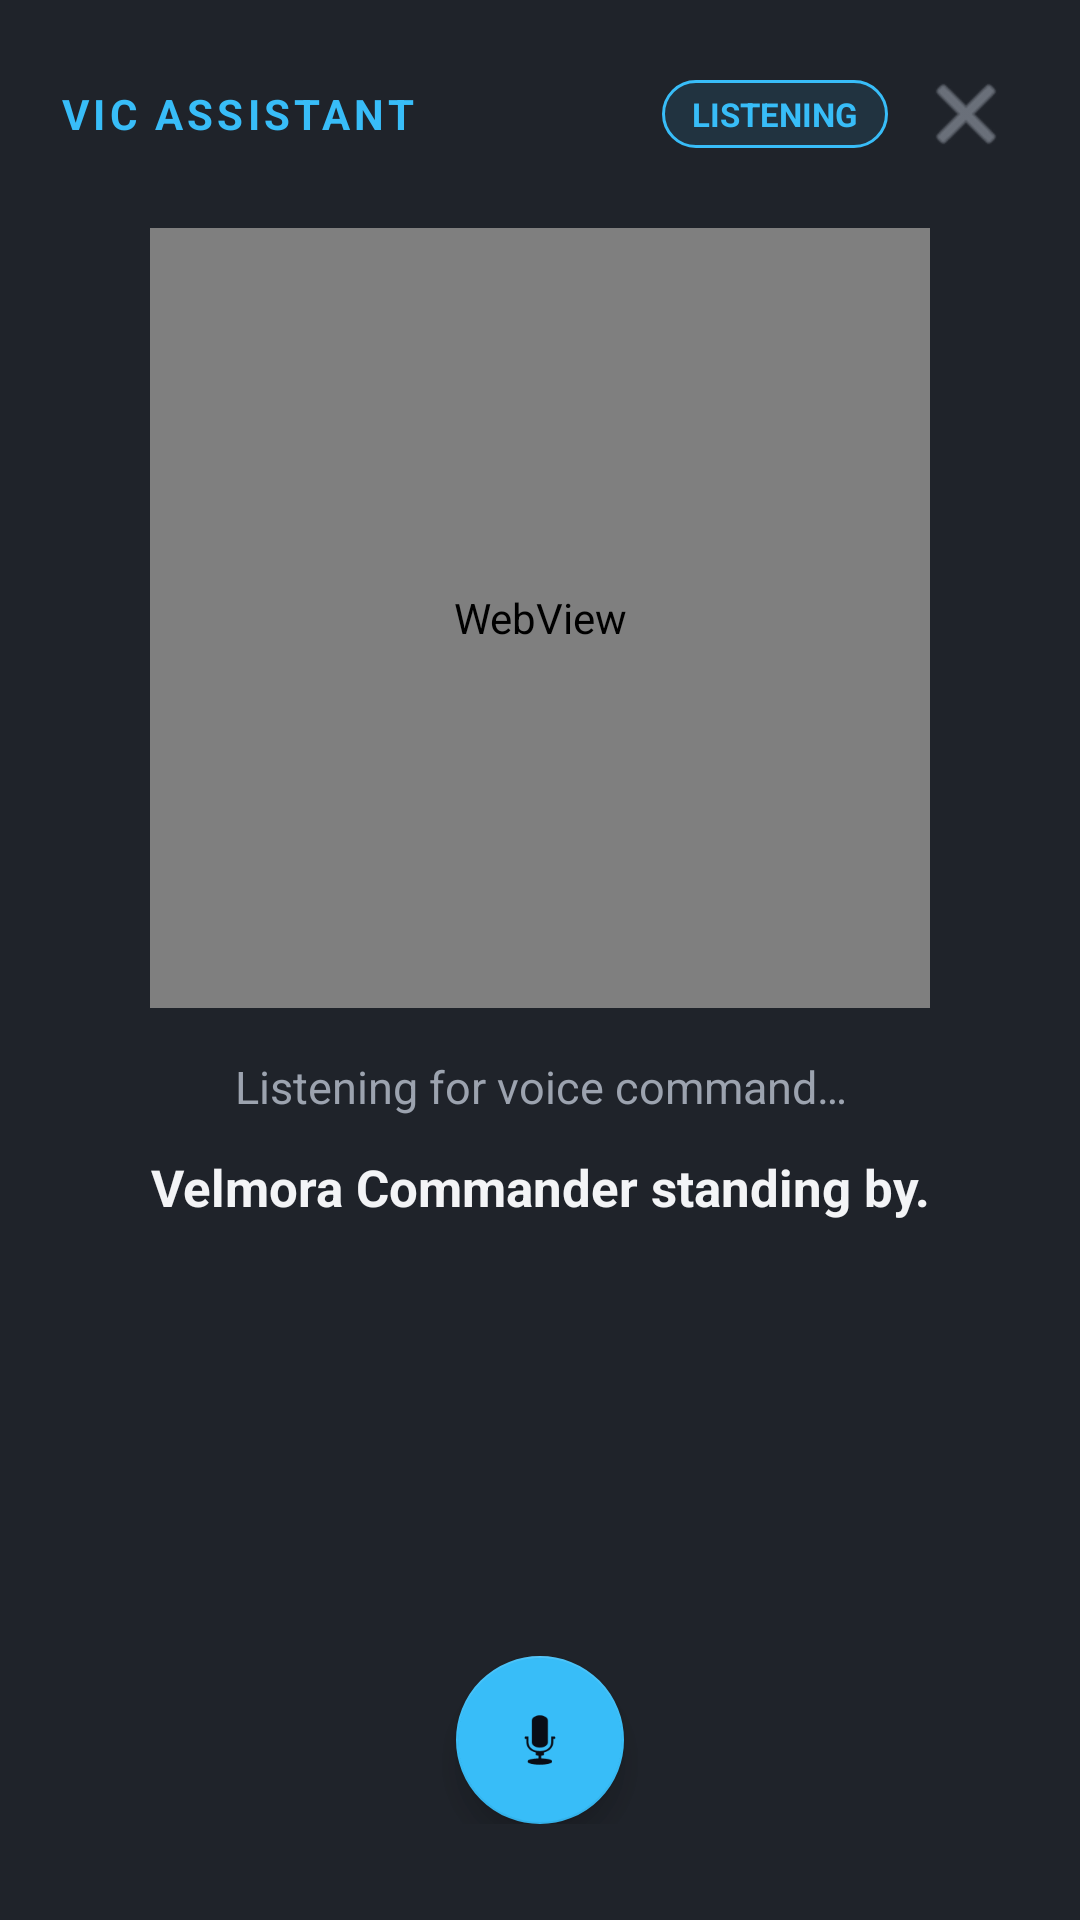

Icon bounding boxes for this 1080w x 1920h phone screenshot, format (x1, y1, x2, y2):
Close: (936, 84, 996, 144)
Voice Input: (456, 1656, 624, 1824)
